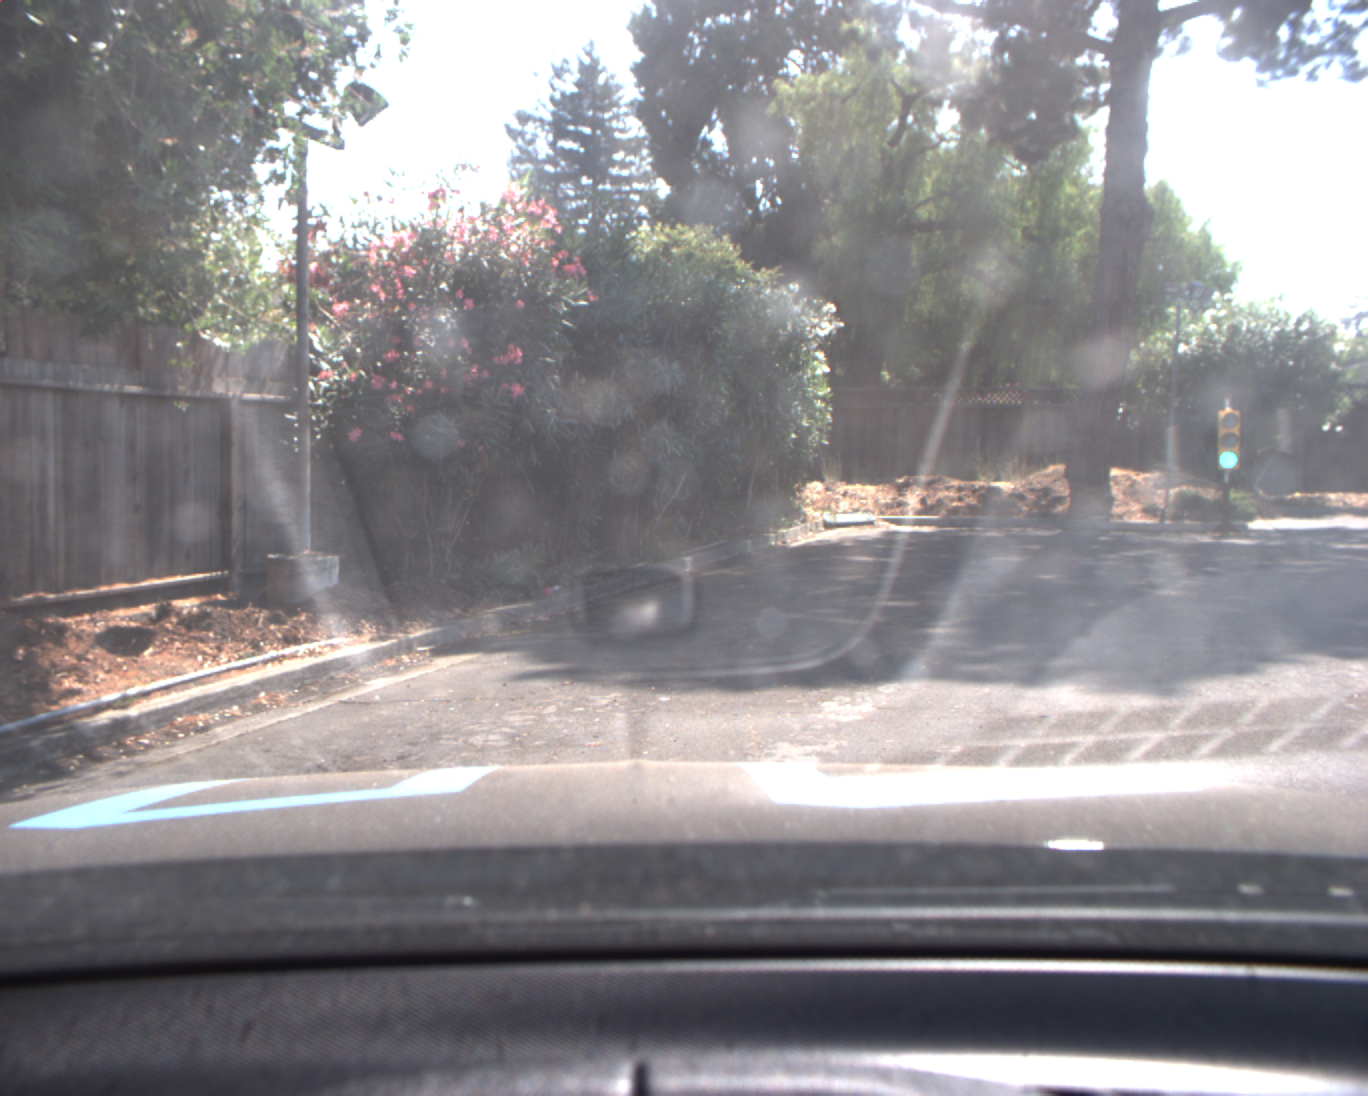green: (1217, 412, 1243, 473)
